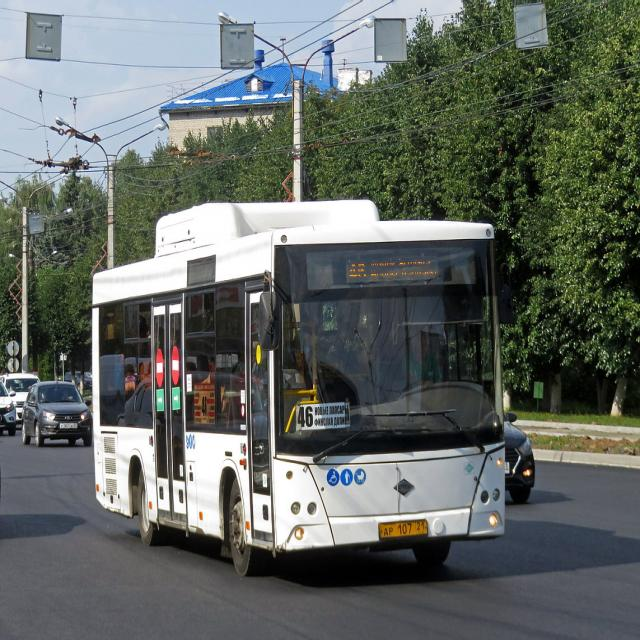number-of-bus: (299, 407, 315, 430)
